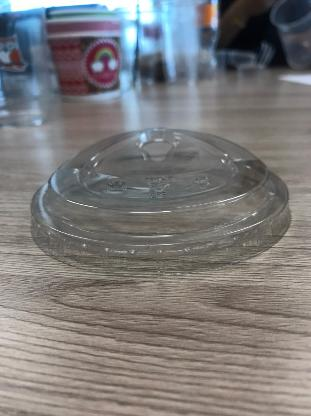Others: (31, 129, 291, 276)
